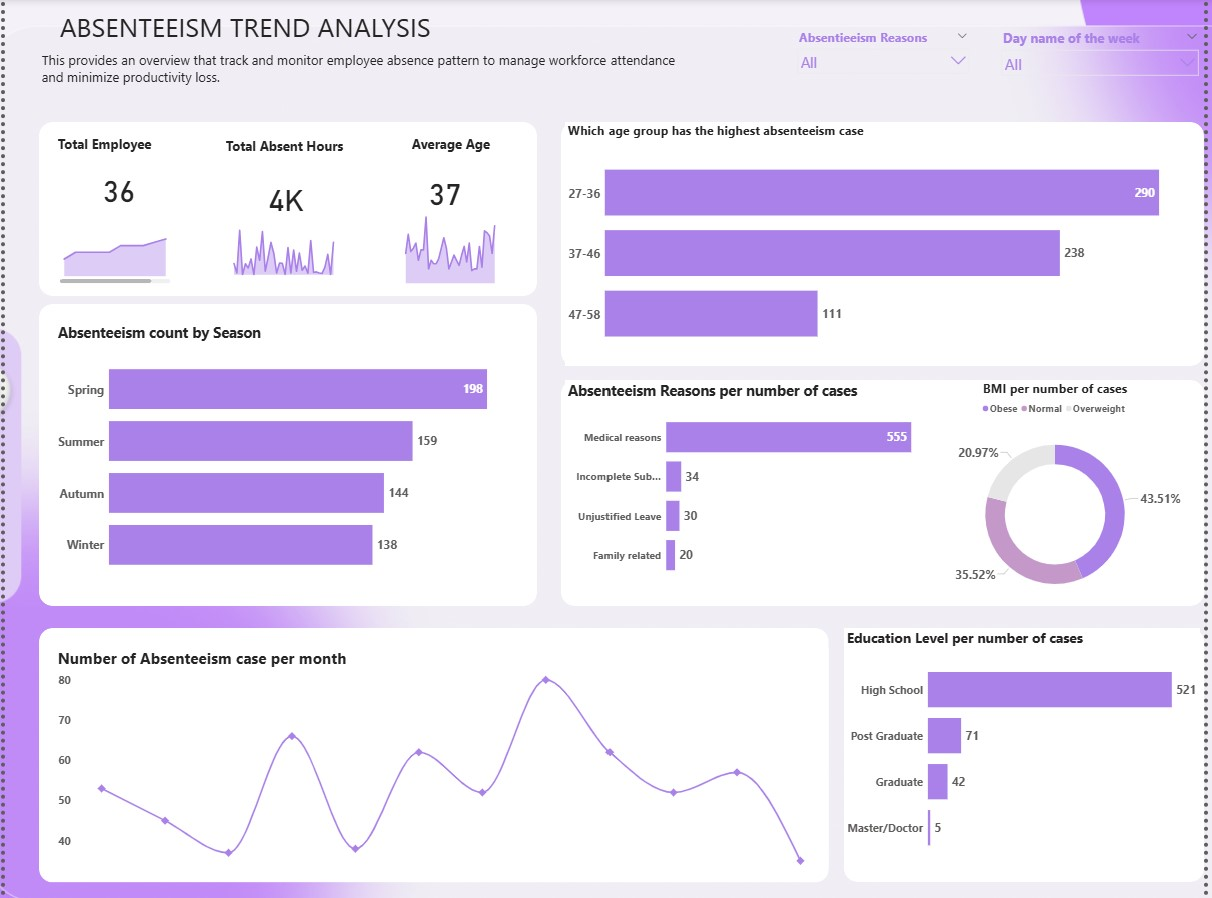

This screenshot's page, from the dashboard's own definition file:
{"tool":"powerbi","page":{"name":"Page 2","canvas":[2200,1700],"ordinal":1},"visuals":[{"type":"textbox","box":[95.5,14.7,767.4,102.8],"z":0},{"type":"textbox","box":[62.4,91.8,1193.3,110.2],"z":1000},{"type":"shape","box":[62.4,227.6,914.3,319.4],"z":2000},{"type":"shape","box":[62.4,561.8,914.3,554.4],"z":3000},{"type":"shape","box":[1020.7,227.6,1178.6,447.9],"z":4000},{"type":"shape","box":[1020.7,701.3,1178.6,414.9],"z":5000},{"type":"barChart","title":"Absenteeism count by Season","fields":{"Category":["Absenteeisms.Season"],"Y":["CountNonNull(Absenteeisms.ID)"]},"box":[91.8,594.8,840.8,492],"z":6000},{"type":"card","fields":{"Values":["Absenteeisms.Total Employee"]},"box":[110.2,293.7,198.3,110.2],"z":7000},{"type":"textbox","box":[91.8,246,216.6,84.4],"z":8000},{"type":"card","fields":{"Values":["Absenteeisms.Average age"]},"box":[686.6,279,242.3,150.5],"z":9000},{"type":"textbox","box":[742,247.3,185.5,74.9],"z":10000},{"type":"textbox","box":[400.2,249.7,253.3,80.8],"z":11000},{"type":"slicer","fields":{"Values":["Absenteeisms.Absentieeism Reasons"]},"box":[1443,51.4,334.1,121.2],"z":12000},{"type":"donutChart","title":"BMI per number of cases","fields":{"Category":["Absenteeisms.Body Mass Index"],"Y":["CountNonNull(Absenteeisms.ID)"]},"box":[1685.3,701.3,481,429.6],"z":13000},{"type":"barChart","title":"Which age group has the highest absenteeism case","fields":{"Category":["Absenteeisms.age group"],"Y":["CountNonNull(Absenteeisms.ID)"]},"box":[1028.1,227.6,1138.2,447.9],"z":14000},{"type":"shape","box":[63,1156.5,1448.1,467.3],"z":15000},{"type":"lineChart","title":"Number of Absenteeism case per month ","fields":{"Category":["Absenteeisms.Month Name of Absence"],"Y":["CountNonNull(Absenteeisms.ID)"]},"box":[92.8,1193,1418.3,404.3],"z":16000},{"type":"barChart","title":"Absenteeism Reasons per number of cases","fields":{"Category":["Absenteeisms.Absentieeism Reasons"],"Y":["CountNonNull(Absenteeisms.ID)"]},"box":[1028.1,701.3,682.9,385.5],"z":17000},{"type":"areaChart","fields":{"Category":["Absenteeisms.Month Name of Absence"],"Y":["Absenteeisms.Total Employee"]},"box":[95.5,403.9,213,124.8],"z":18000},{"type":"areaChart","fields":{"Y":["Absenteeisms.total absent hours"],"Category":["Absenteeisms.ID"]},"box":[400.2,378.2,238.7,135.9],"z":19000},{"type":"card","fields":{"Values":["Absenteeisms.total absent hours"]},"box":[440.6,290.1,150.5,150.5],"z":20000},{"type":"areaChart","fields":{"Y":["Absenteeisms.Average age"],"Category":["Absenteeisms.ID"]},"box":[716,381.9,216.6,146.9],"z":21000},{"type":"slicer","fields":{"Values":["Absenteeisms.Day name of the week"]},"box":[1817.5,51.4,381.9,121.2],"z":22000},{"type":"shape","box":[1538.4,1156.6,660.9,466.3],"z":23000},{"type":"barChart","title":"Education Level per number of cases","fields":{"Category":["Absenteeisms.Education Level"],"Y":["CountNonNull(Absenteeisms.ID)"]},"box":[1538.4,1156.6,653.6,440.6],"z":24000}]}

Visuals, with their boxes on the page's 2200x1700 design canvas (x1, y1, x2, y2). These are canvas units, not pixel positions in the 1212x898 screenshot, which may show the page scaled, cropped or inside an application window:
textbox: bbox(96, 15, 863, 118)
textbox: bbox(62, 92, 1256, 202)
shape: bbox(62, 228, 977, 547)
shape: bbox(62, 562, 977, 1116)
shape: bbox(1021, 228, 2199, 676)
shape: bbox(1021, 701, 2199, 1116)
"Absenteeism count by Season" barChart: bbox(92, 595, 933, 1087)
card - Absenteeisms.Total Employee: bbox(110, 294, 308, 404)
textbox: bbox(92, 246, 308, 330)
card - Absenteeisms.Average age: bbox(687, 279, 929, 430)
textbox: bbox(742, 247, 928, 322)
textbox: bbox(400, 250, 654, 330)
slicer - Absenteeisms.Absentieeism Reasons: bbox(1443, 51, 1777, 173)
"BMI per number of cases" donutChart: bbox(1685, 701, 2166, 1131)
"Which age group has the highest absenteeism case" barChart: bbox(1028, 228, 2166, 676)
shape: bbox(63, 1156, 1511, 1624)
"Number of Absenteeism case per month " lineChart: bbox(93, 1193, 1511, 1597)
"Absenteeism Reasons per number of cases" barChart: bbox(1028, 701, 1711, 1087)
areaChart - Absenteeisms.Month Name of Absence x Absenteeisms.Total Employee: bbox(96, 404, 308, 529)
areaChart - Absenteeisms.total absent hours x Absenteeisms.ID: bbox(400, 378, 639, 514)
card - Absenteeisms.total absent hours: bbox(441, 290, 591, 441)
areaChart - Absenteeisms.Average age x Absenteeisms.ID: bbox(716, 382, 933, 529)
slicer - Absenteeisms.Day name of the week: bbox(1818, 51, 2199, 173)
shape: bbox(1538, 1157, 2199, 1623)
"Education Level per number of cases" barChart: bbox(1538, 1157, 2192, 1597)
